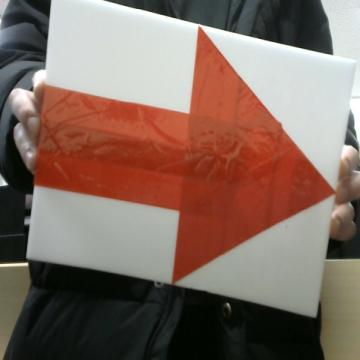red_right: (36, 28, 334, 282)
